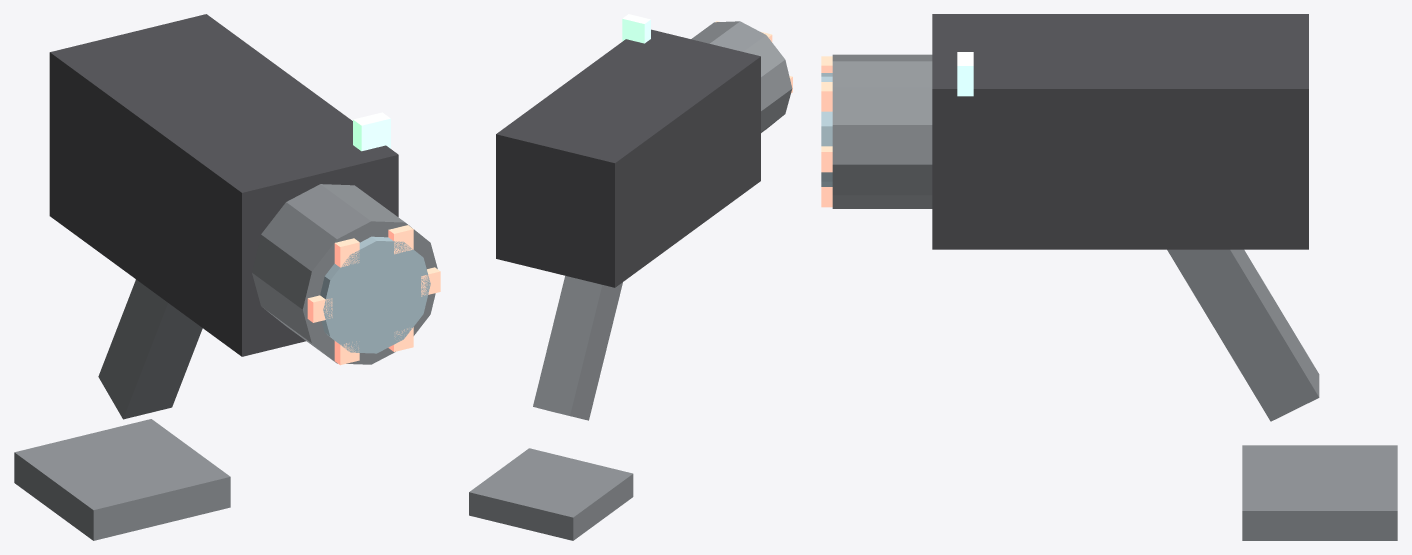
The model's file is camera.glb.
The picture shows the model from 3 angles, left to right: view 1: azimuth 30°, elevation 25°; view 2: azimuth 150°, elevation 25°; view 3: azimuth 270°, elevation 25°; orthographic projection. The views are drawn at different scales.
Parts seen in each view (by area): view 1: camera; view 2: camera; view 3: camera.
Part boxes in pixels (x1,y1,x2,y2): camera: [14, 14, 440, 540]; camera: [469, 14, 792, 540]; camera: [821, 14, 1397, 540].
Bounding box in the file's own units: 0.165 × 0.48 × 0.52.
